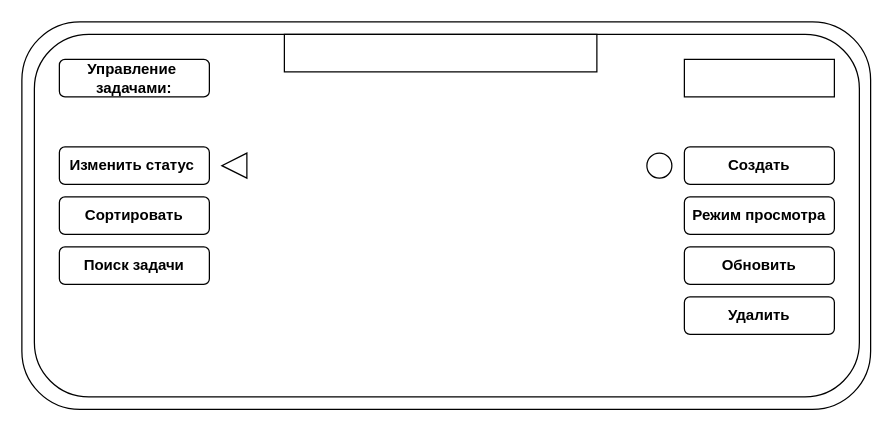
Some shapes in this 893 by 431 pixel diagram are drawn without their labels. The shapes that lost their labels are listed below. From the top down, each one's box as (x1, y1, x2, y2) in pixels, then its label:
(283, 33, 597, 72): Система управления задачами
(683, 58, 834, 97): Управление БД:
